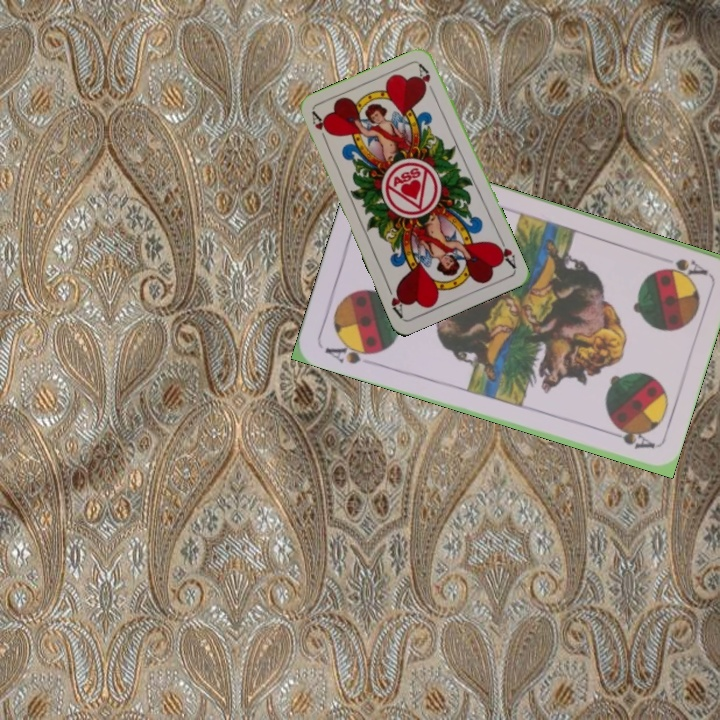HA: (491, 233, 519, 272), (308, 108, 334, 147)
SA: (321, 337, 380, 367), (657, 254, 710, 281)
